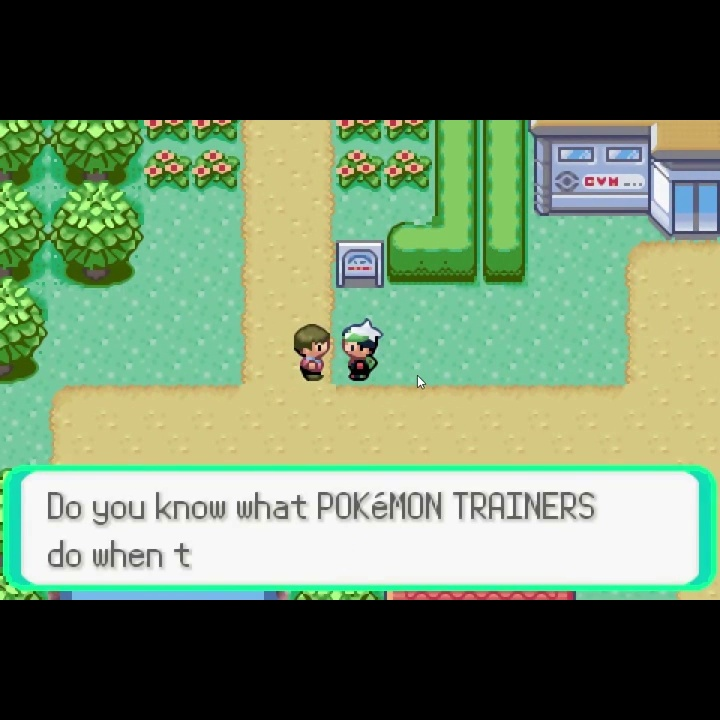gym: (526, 119, 719, 243)
npc: (339, 318, 387, 383), (291, 320, 332, 384)
wall: (49, 181, 145, 289), (48, 120, 147, 181), (1, 277, 48, 385), (1, 180, 50, 280), (1, 119, 49, 179)
